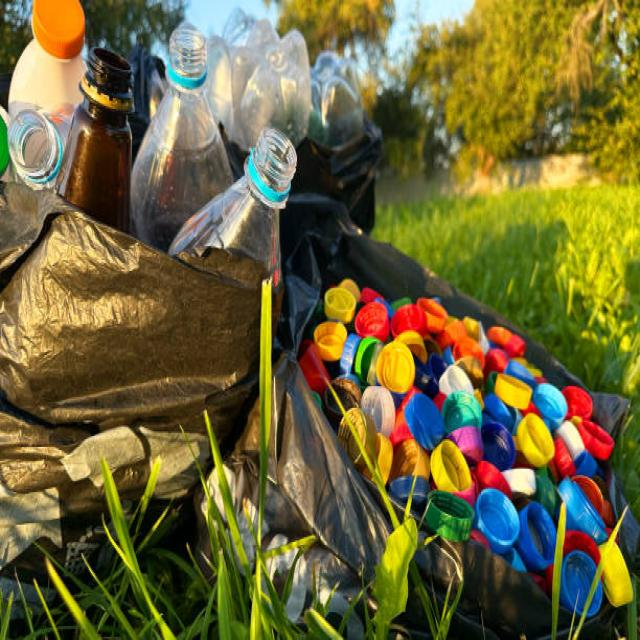plastic: (357, 308, 575, 531), (157, 62, 297, 257)
